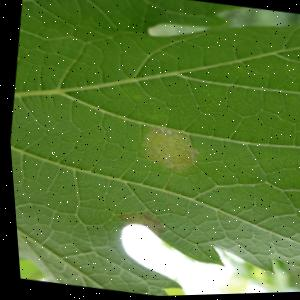Folha: (0, 0, 300, 300)
Fungo: (133, 124, 200, 177), (109, 207, 162, 239)
